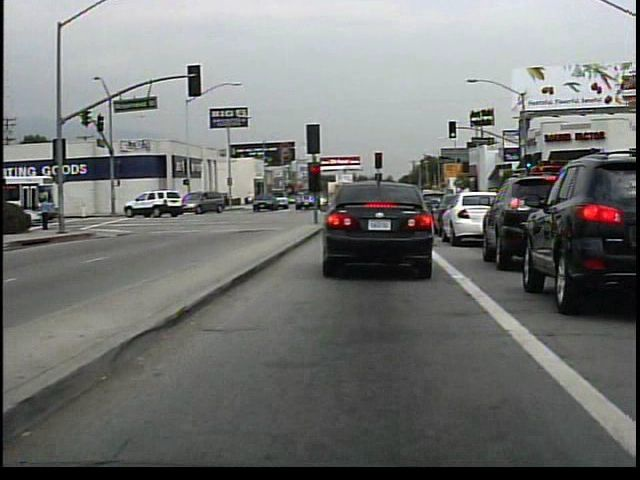person: (40, 194, 60, 235), (249, 187, 256, 208)
